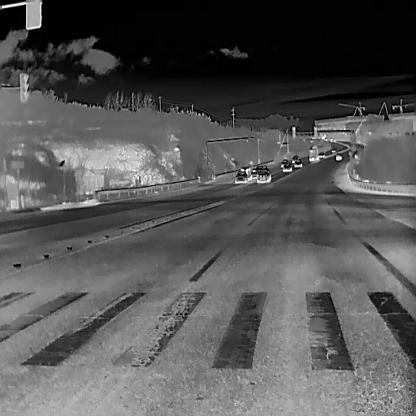car: (256, 168, 270, 184), (234, 170, 248, 184), (282, 161, 292, 172), (250, 166, 258, 178), (293, 158, 302, 168), (290, 154, 298, 164), (279, 158, 287, 168), (255, 164, 263, 172), (318, 151, 325, 159), (335, 153, 342, 161), (330, 147, 336, 153), (354, 150, 358, 158), (328, 136, 332, 141), (323, 136, 327, 140), (332, 138, 336, 142)
truck: (237, 166, 252, 180), (308, 144, 318, 162)
